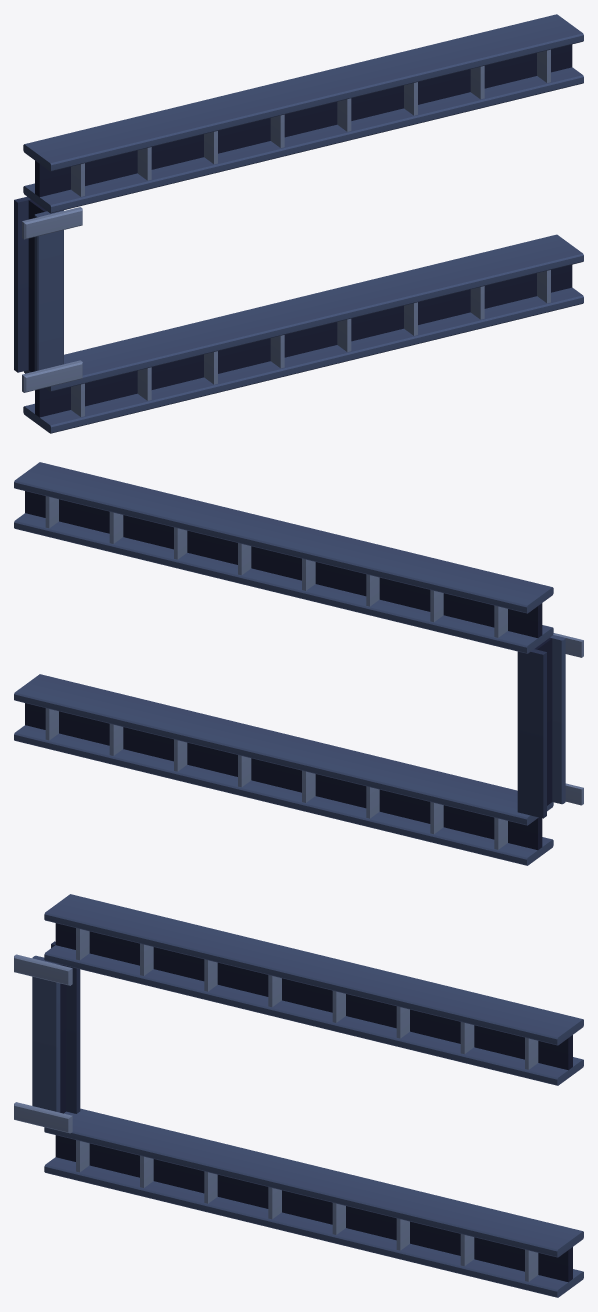
The model's file is SM_Ceiling_Truss_4m.fbx.
The picture shows the model from 3 angles, top to bottom: view 1: azimuth 30°, elevation 25°; view 2: azimuth 150°, elevation 25°; view 3: azimuth 330°, elevation 25°; orthographic projection. The views are drawn at different scales.
Parts seen in each view (by area): view 1: SM_Ceiling_Truss_4m; view 2: SM_Ceiling_Truss_4m; view 3: SM_Ceiling_Truss_4m.
Boxes of the visible parts, x1,y1,x2,y2 form: SM_Ceiling_Truss_4m: [14, 14, 583, 433]; SM_Ceiling_Truss_4m: [14, 462, 583, 865]; SM_Ceiling_Truss_4m: [14, 894, 583, 1297].
Size of the model in its own units: 4.22 by 1.94 by 0.4.
1 material, 1 textured.
